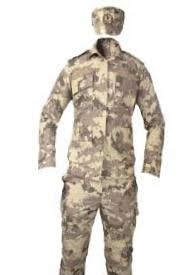uniform: (37, 9, 164, 269)
